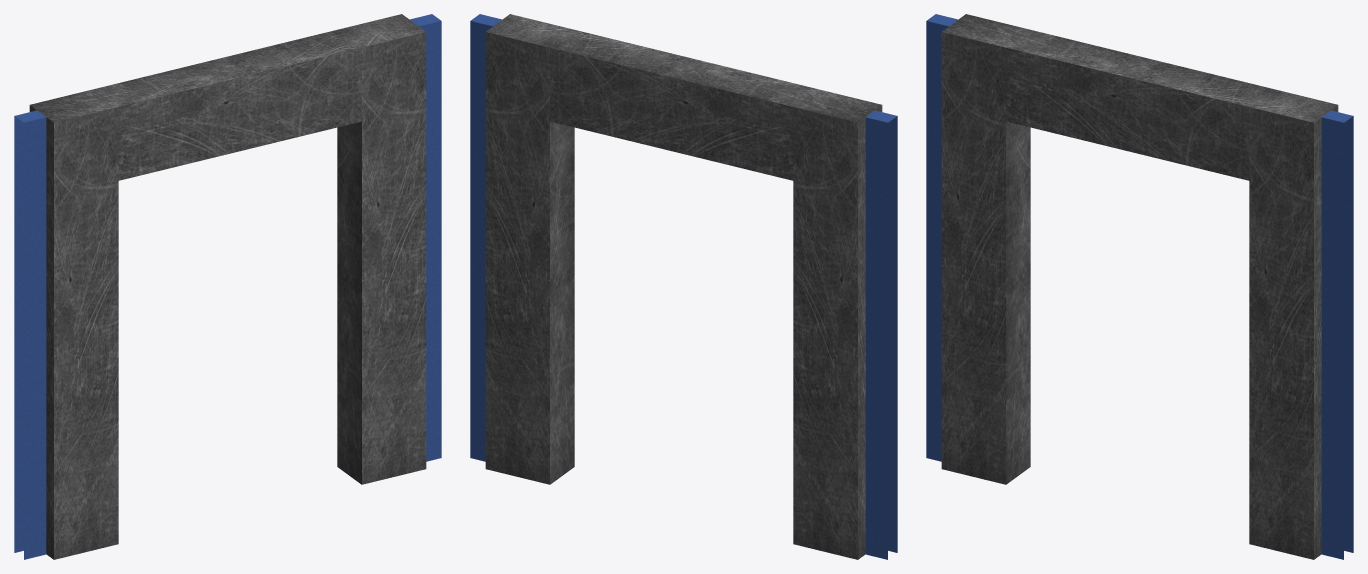
File: DoorWall.fbx
3 renders of one model, left to right at view 1: azimuth 30°, elevation 25°; view 2: azimuth 150°, elevation 25°; view 3: azimuth 330°, elevation 25°, orthographic.
Visible parts, largest first — view 1: pCube6; view 2: pCube6; view 3: pCube6.
Boxes of the visible parts, <box> form: pCube6: <box>14,14,441,559</box>; pCube6: <box>470,14,897,559</box>; pCube6: <box>926,14,1353,559</box>.
Bounding box in the file's own units: 256 × 256 × 26.
